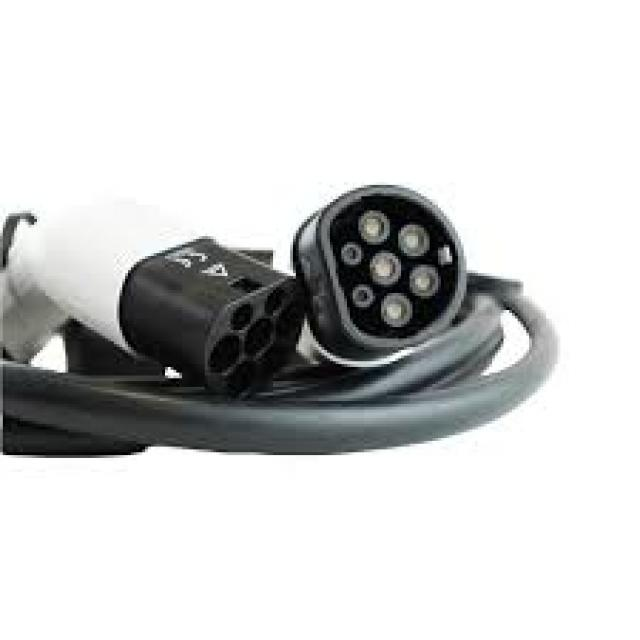Type 2: (280, 133, 500, 401)
